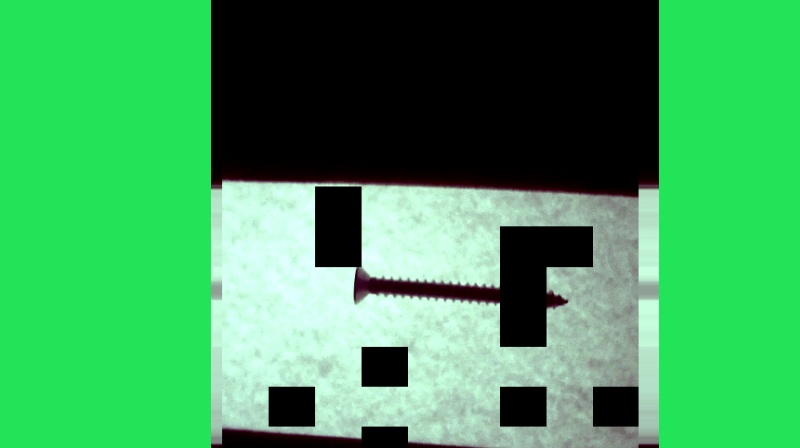S002: (349, 259, 571, 312)
